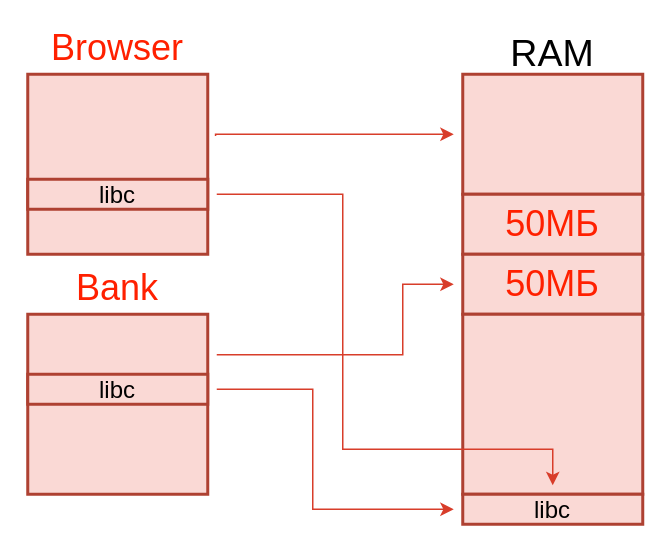
Image size: 669x551. Some labels were removed from this diagram. The shapes that lost their labels are listed below. From the top down, each one's centre as x and y in pixels, then its label:
the point at 552,133: 100МБ
the point at 552,403: 150МБ
